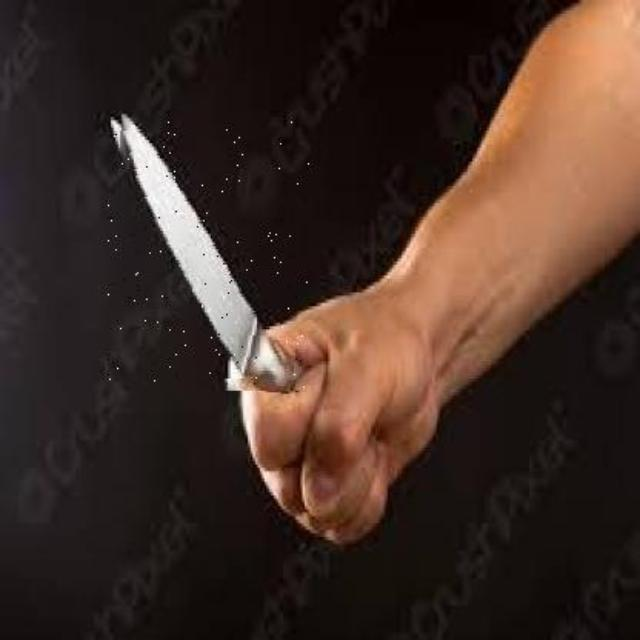Knife: (108, 117, 308, 390)
